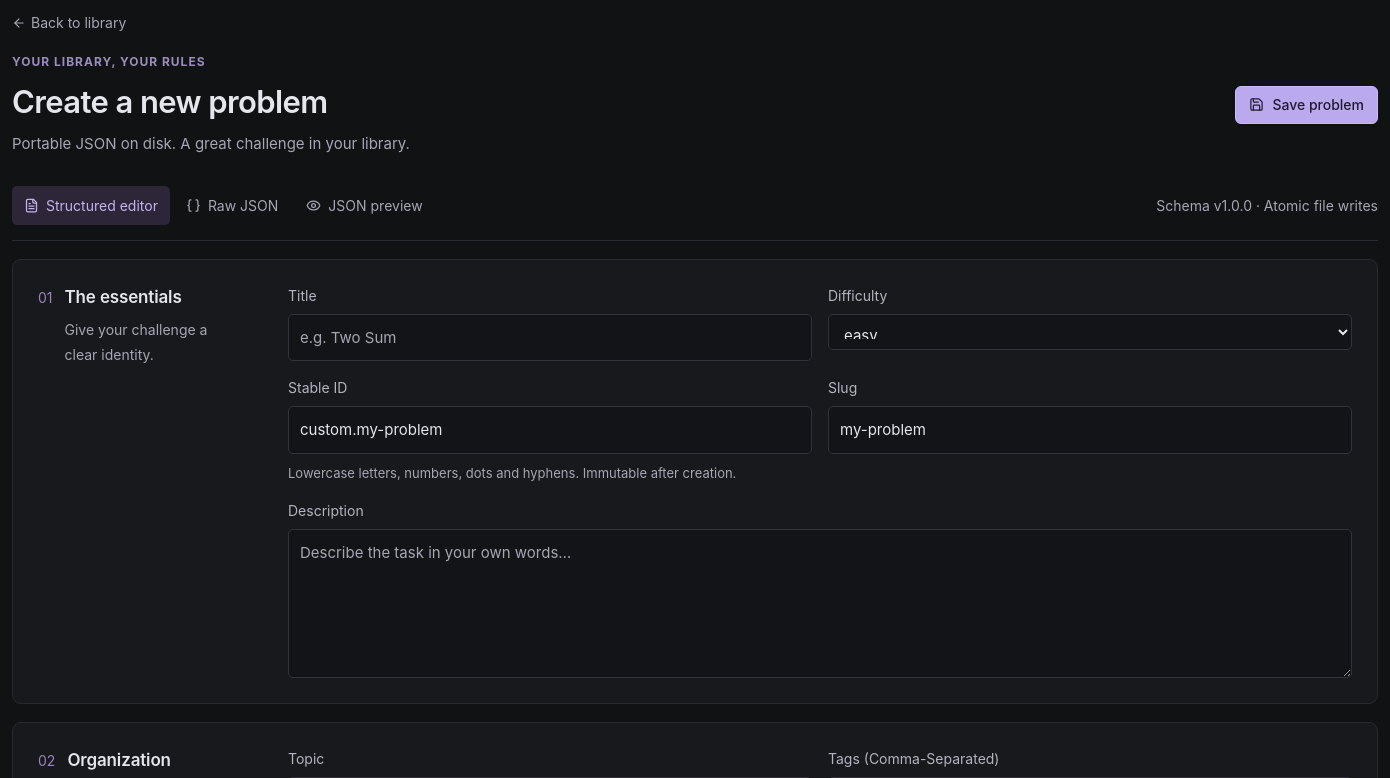
Scenario: saves structured problem and displays schema feedback
In the field labelled "Title": (550,338) [288,314,812,361], type "An original challenge"
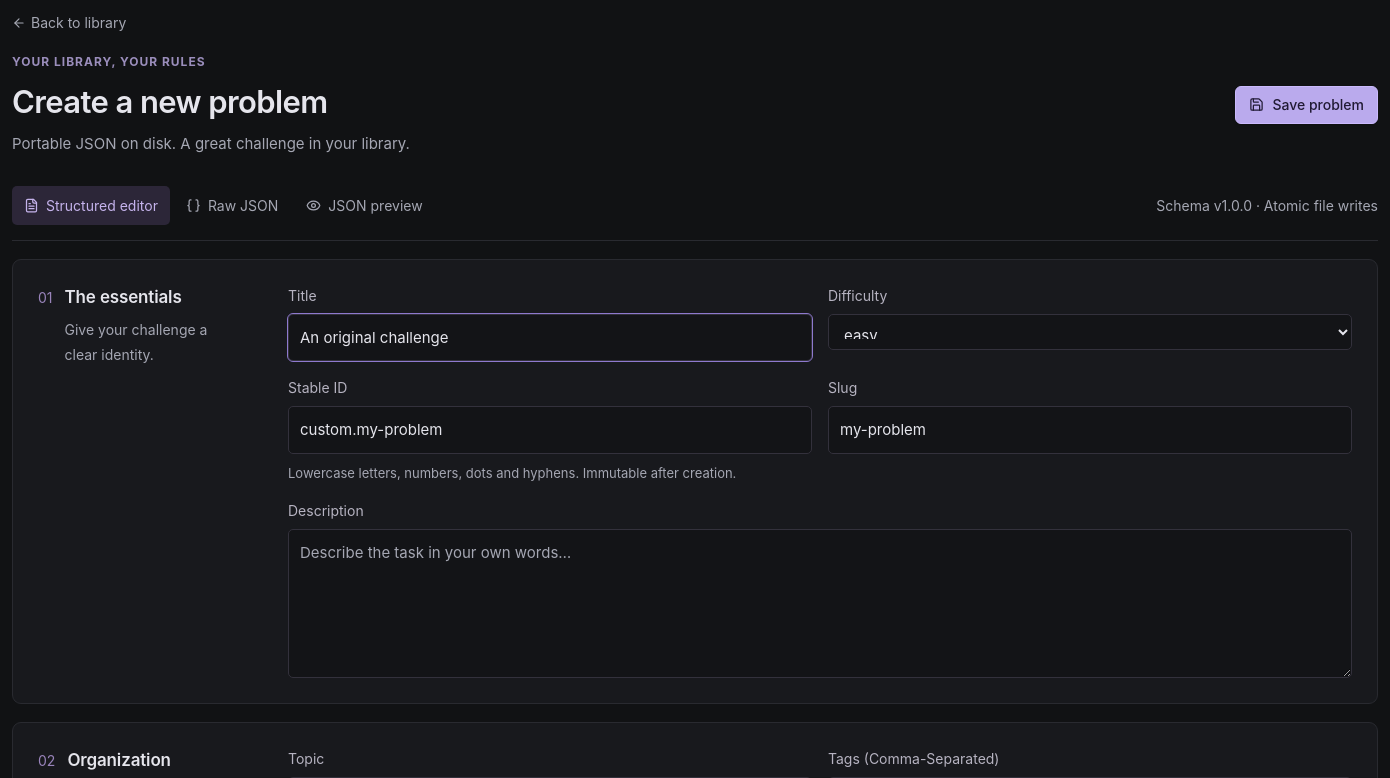
Click the button "Save problem": (1307,105) [1235,86,1378,124]
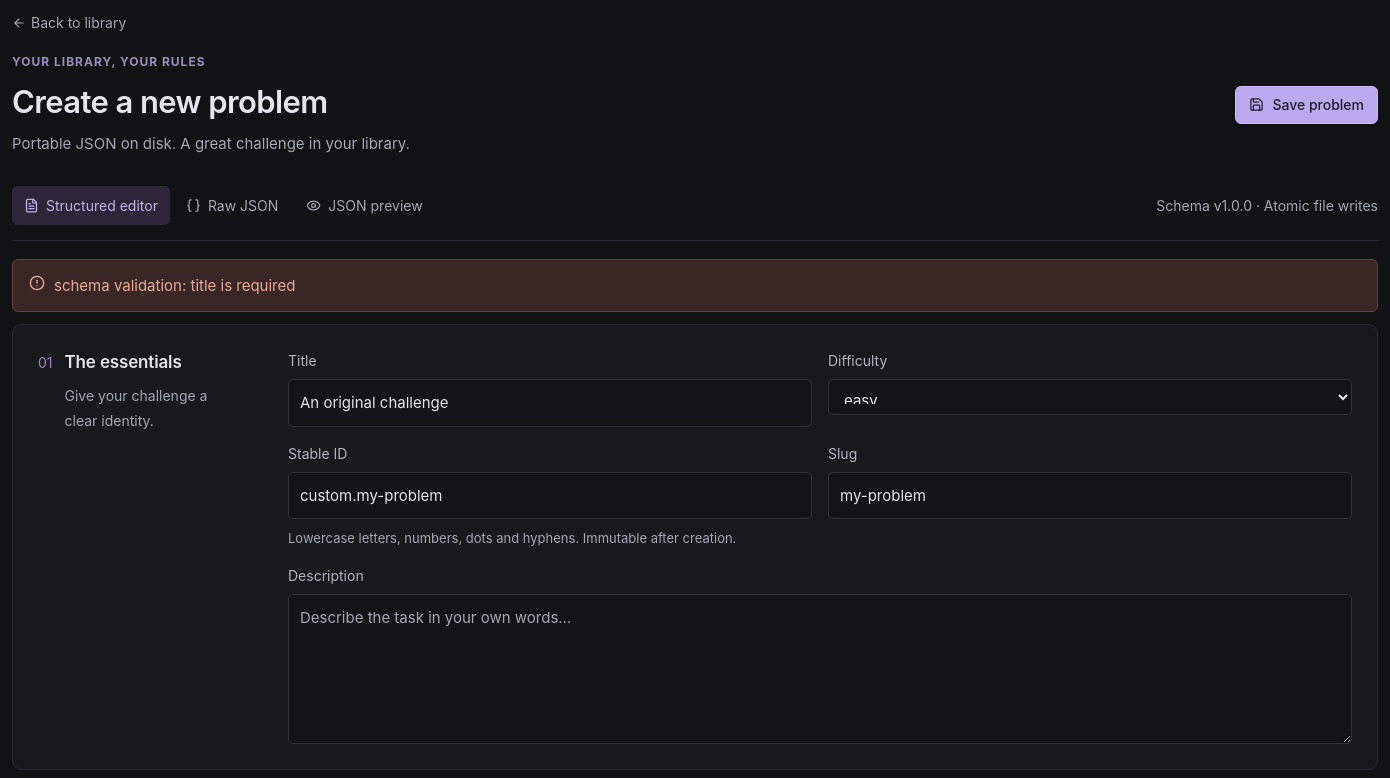
expect the message shows "schema validation": met, box [54,276,296,295]
